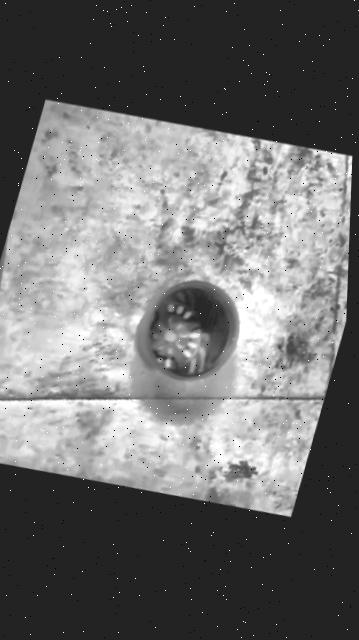pot: (123, 267, 249, 396)
